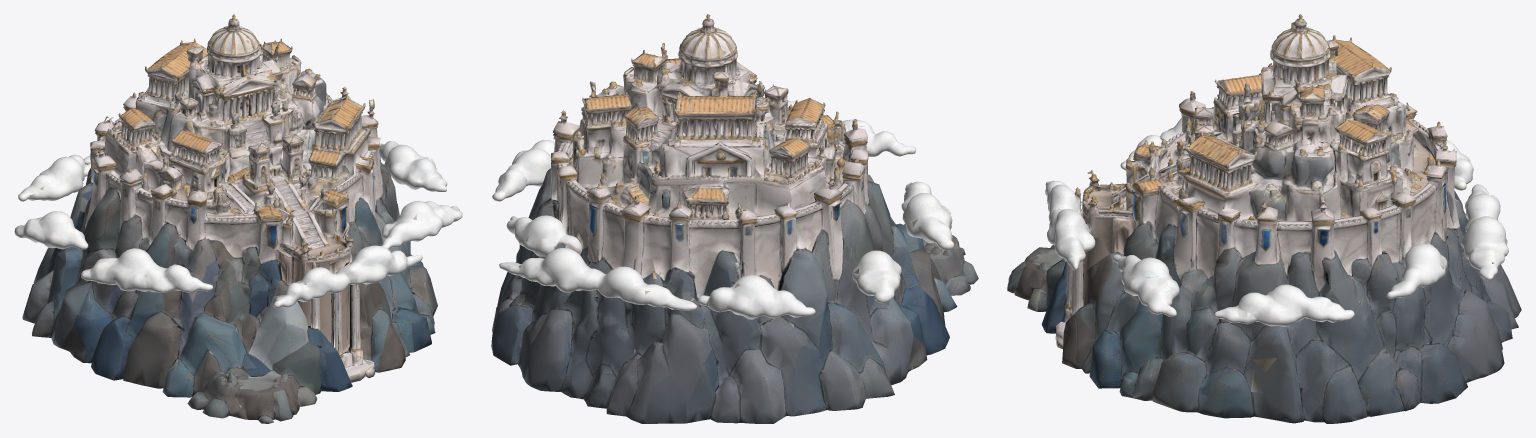
File: Citadel_of_the_Clouds.glb
3 views of the same model, side by side, from view 1: azimuth 30°, elevation 25°; view 2: azimuth 150°, elevation 25°; view 3: azimuth 270°, elevation 25° (orthographic). The views are drawn at different scales.
Visible parts, largest first — view 1: Citadel_of_the_Clouds; view 2: Citadel_of_the_Clouds; view 3: Citadel_of_the_Clouds.
Part boxes in pixels (x1=…): Citadel_of_the_Clouds: x1=14, y1=14, x2=462, y2=423; Citadel_of_the_Clouds: x1=491, y1=14, x2=978, y2=423; Citadel_of_the_Clouds: x1=1007, y1=14, x2=1521, y2=423.
Size of the model in its own units: 1.79 by 1.3 by 1.91.
Materials: 1 (1 with a texture image).
